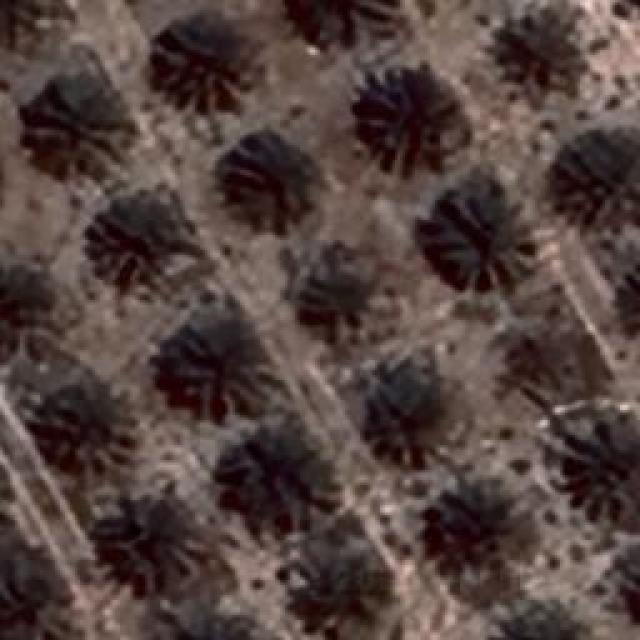PalmTree: (33, 69, 123, 600), (147, 20, 260, 115), (25, 82, 133, 180), (428, 195, 538, 290), (123, 24, 338, 69), (428, 480, 520, 578), (230, 438, 330, 524), (357, 80, 455, 162), (102, 501, 202, 581), (224, 148, 318, 222), (167, 326, 255, 404), (557, 131, 640, 213), (300, 555, 388, 630), (48, 387, 132, 465), (572, 415, 638, 510), (500, 17, 582, 92), (100, 198, 188, 266), (378, 361, 448, 441), (300, 256, 365, 324), (0, 257, 48, 342), (494, 608, 598, 640), (160, 609, 262, 640), (615, 252, 640, 340), (0, 0, 44, 46), (621, 253, 640, 339), (628, 254, 640, 339)
